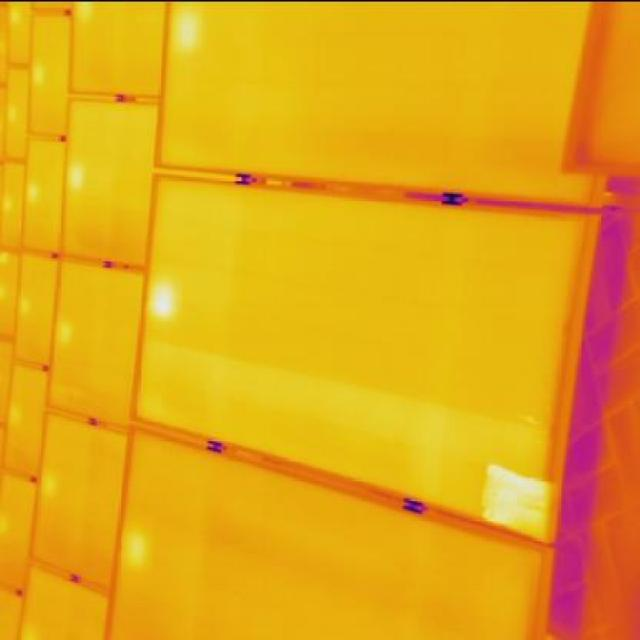hotspot: (482, 460, 562, 542), (142, 274, 182, 320)
